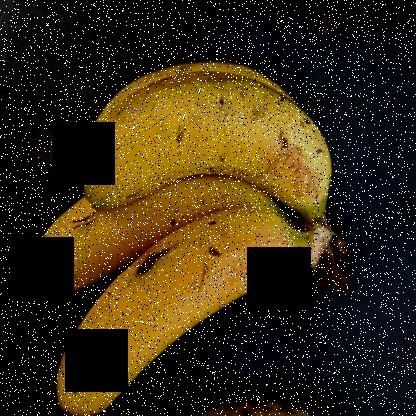ripe: (59, 216, 293, 415), (65, 64, 347, 221), (21, 174, 186, 306)
